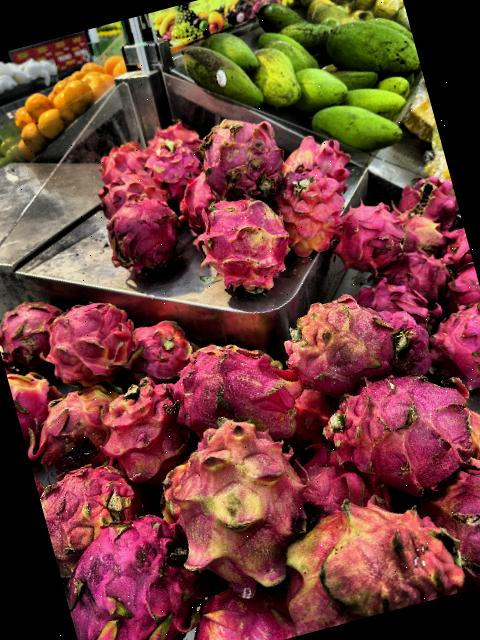buah-naga-belum-matang: (138, 403, 326, 598), (262, 482, 462, 637), (278, 284, 412, 398), (191, 182, 301, 304), (31, 444, 142, 560), (21, 374, 122, 476), (183, 581, 301, 640), (272, 164, 346, 255), (279, 130, 354, 194), (6, 363, 58, 440), (392, 205, 450, 263)
buah-naga-matang: (310, 358, 480, 503), (56, 497, 217, 640), (167, 320, 308, 462), (90, 371, 194, 483), (412, 446, 480, 596), (38, 290, 142, 387), (192, 108, 289, 204), (101, 185, 184, 278), (329, 190, 412, 270), (125, 308, 206, 387), (370, 243, 451, 310), (354, 268, 436, 332), (0, 288, 66, 364), (428, 295, 480, 387), (396, 168, 463, 236), (90, 164, 164, 215), (143, 140, 205, 200), (379, 304, 430, 368), (92, 138, 150, 180), (437, 263, 480, 315), (174, 173, 216, 222), (438, 225, 472, 267)
